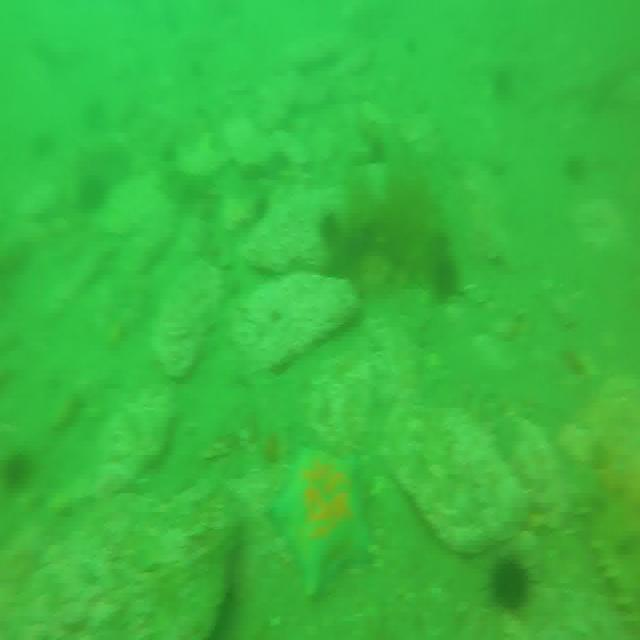echinus: (489, 544, 533, 613), (436, 251, 462, 302), (13, 446, 35, 491), (320, 212, 340, 242)
starfish: (267, 446, 371, 594)
